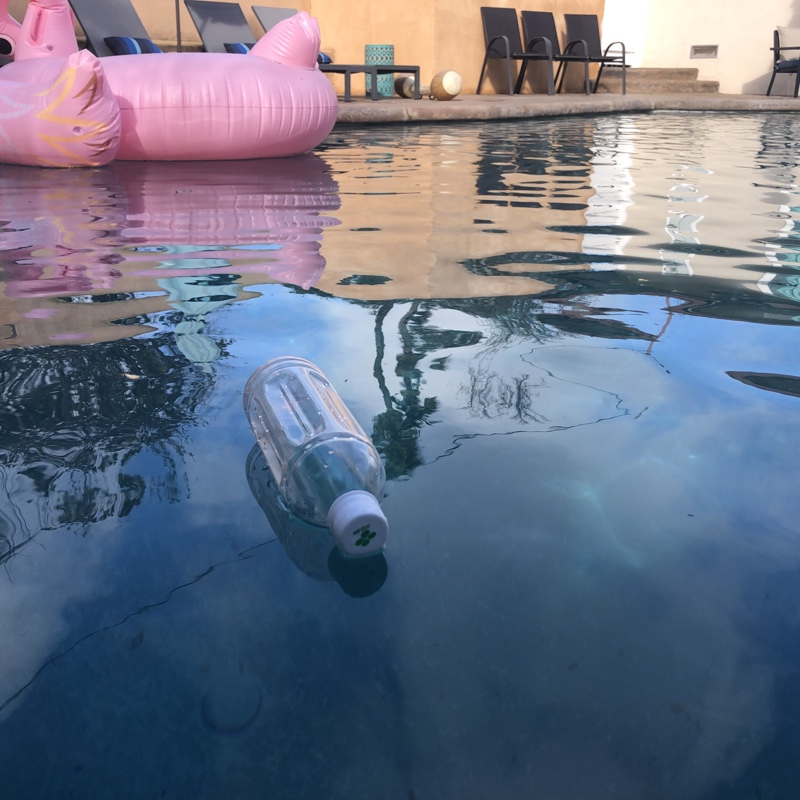Plastic Bottle: (240, 349, 394, 574)
